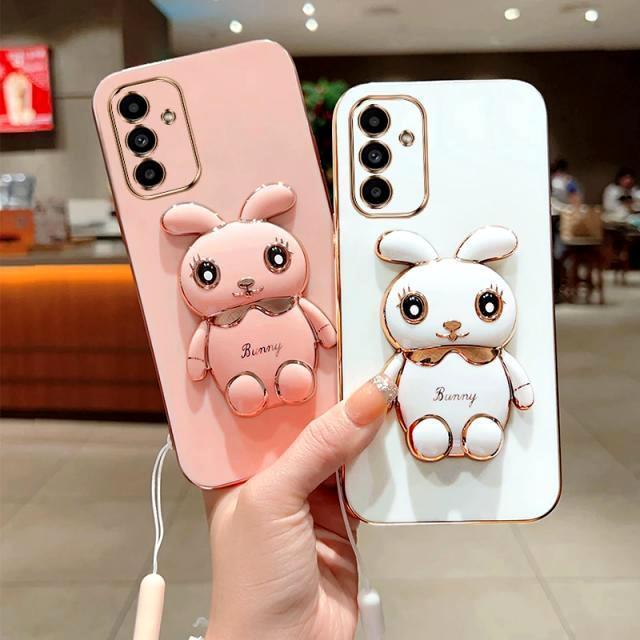lens_back: (114, 89, 152, 126), (131, 156, 167, 192), (356, 104, 392, 139), (124, 123, 159, 159), (359, 175, 394, 210), (359, 140, 391, 174)
phone: (84, 32, 336, 488), (333, 76, 566, 530)
